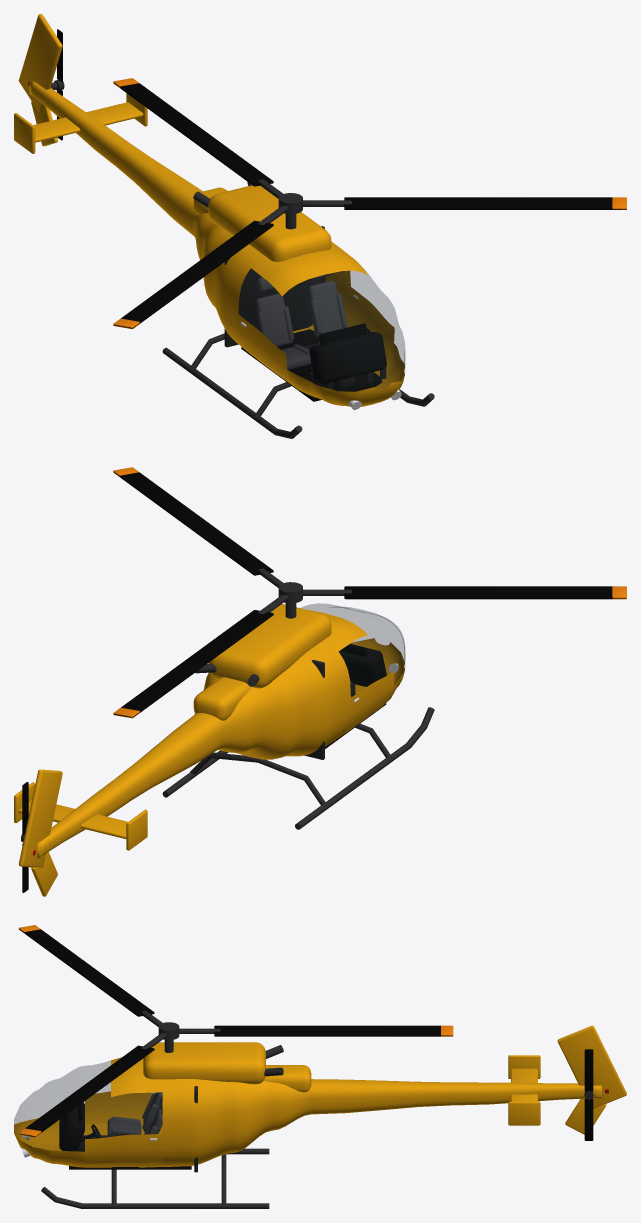
Rendered from heli.glb.
3 renders of one model, top to bottom at view 1: azimuth 30°, elevation 25°; view 2: azimuth 150°, elevation 25°; view 3: azimuth 270°, elevation 25°, orthographic. The views are drawn at different scales.
Parts seen in each view (by area): view 1: body, interior, rotor_main, door_fr, door_fl; view 2: body, rotor_main, door_fr, interior; view 3: body, rotor_main, door_fl, interior, door_fr, rotor_tail.
Part boxes in pixels (x1=…): body: x1=14, y1=14, x2=434, y2=438; interior: x1=224, y1=226, x2=386, y2=401; rotor_main: x1=113, y1=78, x2=626, y2=329; door_fr: x1=238, y1=269, x2=297, y2=384; door_fl: x1=346, y1=267, x2=394, y2=361; body: x1=14, y1=603, x2=434, y2=896; rotor_main: x1=113, y1=467, x2=626, y2=718; door_fr: x1=339, y1=630, x2=394, y2=731; interior: x1=304, y1=644, x2=386, y2=759; body: x1=14, y1=1025, x2=626, y2=1208; rotor_main: x1=19, y1=925, x2=453, y2=1137; door_fl: x1=85, y1=1092, x2=162, y2=1163; interior: x1=59, y1=1086, x2=197, y2=1172; door_fr: x1=85, y1=1091, x2=154, y2=1124; rotor_tail: x1=584, y1=1049, x2=593, y2=1140.
Bounding box in the file's own units: 7.76 × 2.66 × 9.49.
